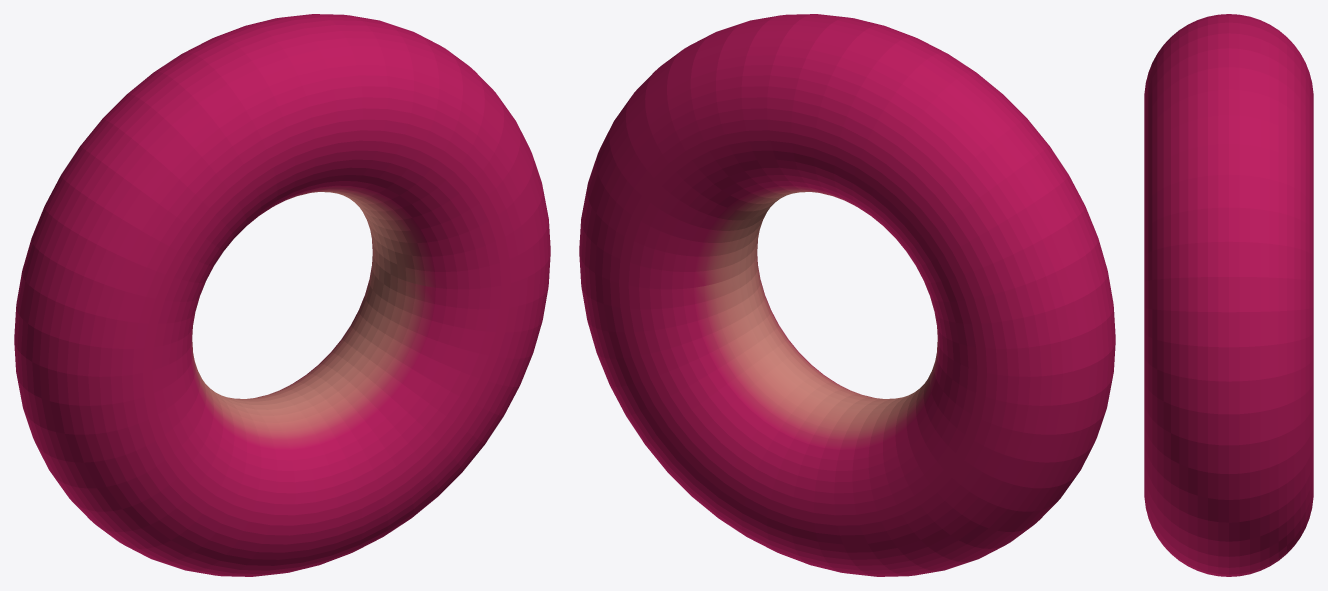
3 views of the same model, side by side, from view 1: azimuth 30°, elevation 25°; view 2: azimuth 150°, elevation 25°; view 3: azimuth 270°, elevation 25° (orthographic). The views are drawn at different scales.
Parts seen in each view (by area): view 1: world; view 2: world; view 3: world.
Part boxes in pixels (x1,y1,x2,y2): world: (14,14,550,576); world: (579,14,1115,576); world: (1144,14,1313,576).
Size of the model in its own units: 31.47 by 31.4 by 9.45.
